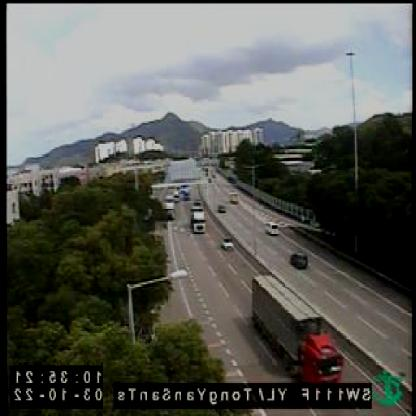Car: (291, 250, 308, 268), (265, 220, 280, 234), (222, 237, 234, 248), (220, 204, 228, 212)
Truck: (255, 274, 343, 379), (191, 206, 204, 234)
